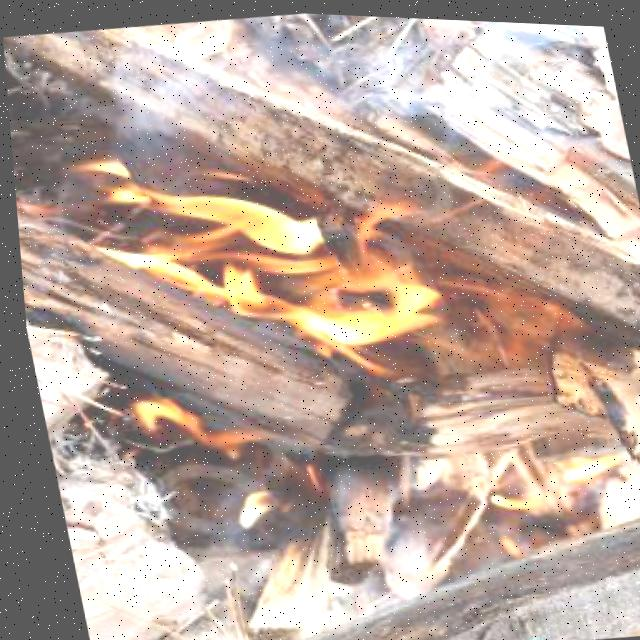Fire: (28, 104, 531, 530)
